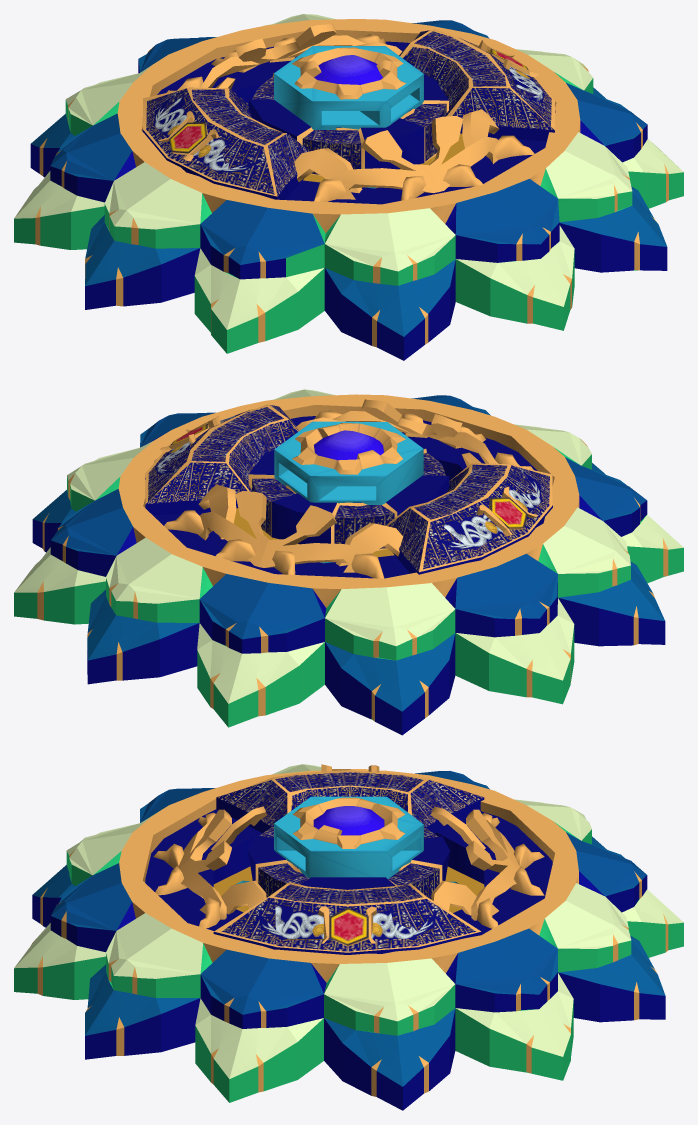
The model's file is Com3d_BbAI_krake2_N000out.obj.
3 views of the same model, one above another, from view 1: azimuth 30°, elevation 25°; view 2: azimuth 150°, elevation 25°; view 3: azimuth 270°, elevation 25° (orthographic).
Parts seen in each view (by area): view 1: Com3d_BbAI_krake2_N000out; view 2: Com3d_BbAI_krake2_N000out; view 3: Com3d_BbAI_krake2_N000out.
Part boxes in pixels (left/top/right/bottom): Com3d_BbAI_krake2_N000out: left=14, top=14, right=683, bottom=360; Com3d_BbAI_krake2_N000out: left=14, top=389, right=683, bottom=735; Com3d_BbAI_krake2_N000out: left=14, top=764, right=683, bottom=1110.
Size of the model in its own units: 31.71 by 9.08 by 31.71.
1 material, 1 textured.
